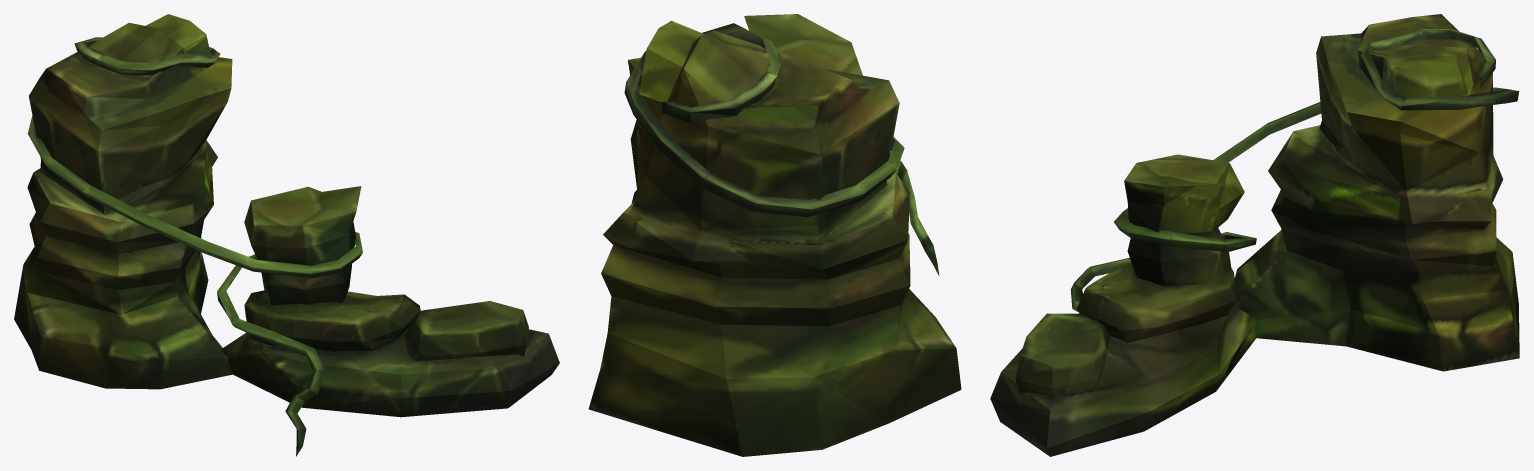
Rendered from Swamp_shitou04.FBX.
3 views of the same model, side by side, from view 1: azimuth 30°, elevation 25°; view 2: azimuth 150°, elevation 25°; view 3: azimuth 270°, elevation 25° (orthographic). The views are drawn at different scales.
Visible parts, largest first — view 1: 对象006; view 2: 对象006; view 3: 对象006.
Boxes of the visible parts, x1,y1,x2,y2 form: 对象006: (14,14,559,456); 对象006: (588,14,961,456); 对象006: (990,14,1519,456).
Bounding box in the file's own units: 293 × 217 × 319.
